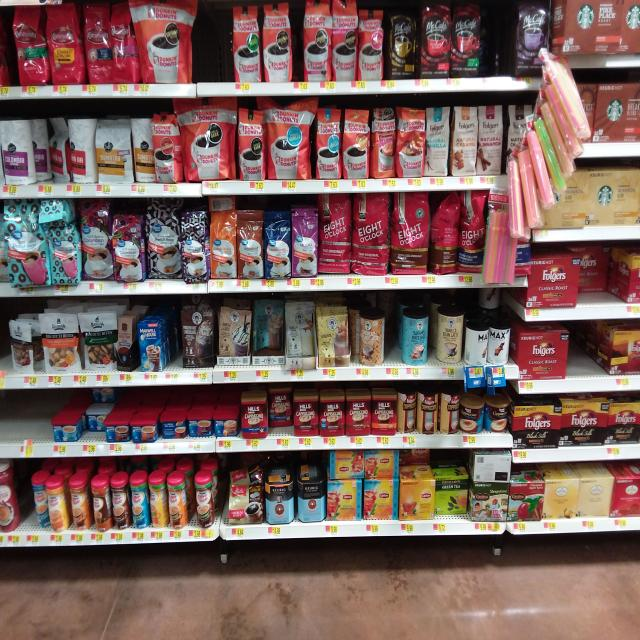unorganised: (33, 116, 69, 188), (386, 6, 420, 80), (466, 316, 511, 364), (5, 316, 44, 371), (68, 116, 94, 186), (351, 311, 384, 366), (582, 255, 620, 302), (433, 477, 470, 521), (255, 303, 282, 356), (473, 451, 512, 482), (269, 391, 293, 434), (402, 450, 432, 477), (83, 414, 105, 432), (208, 195, 234, 210)
